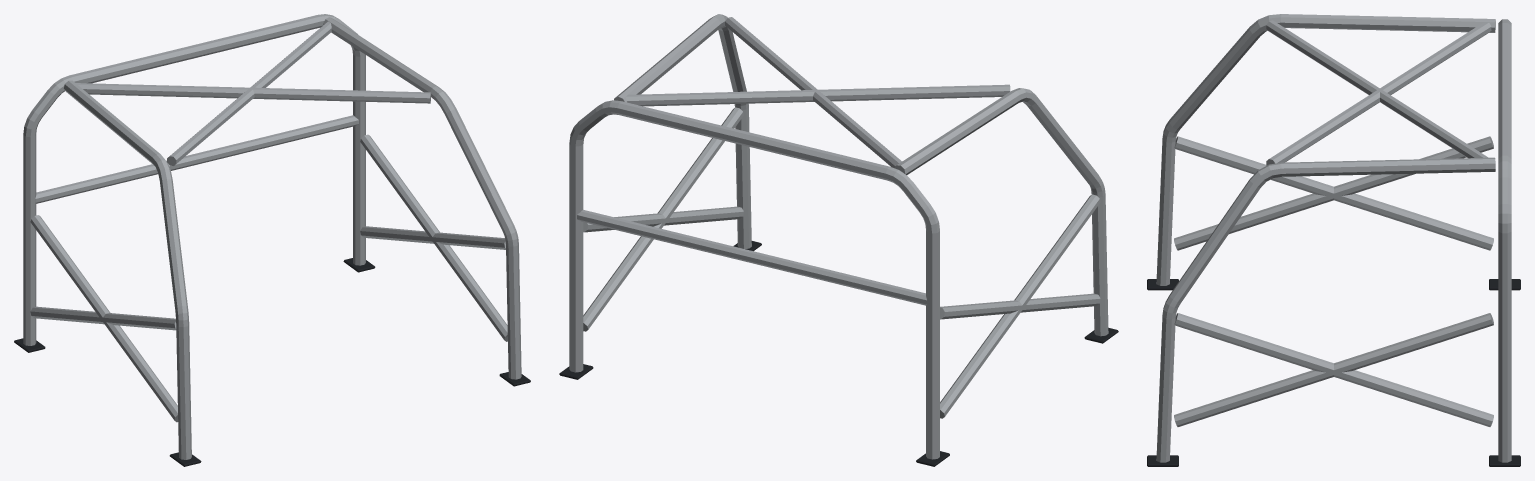
Rendered from roll_cage_welded.glb.
3 renders of one model, left to right at view 1: azimuth 30°, elevation 25°; view 2: azimuth 150°, elevation 25°; view 3: azimuth 270°, elevation 25°, orthographic. The views are drawn at different scales.
Parts seen in each view (by area): view 1: model; view 2: model; view 3: model.
Part boxes in pixels (x1,y1,x2,y2): model: (14, 14, 530, 466); model: (559, 14, 1118, 466); model: (1147, 14, 1520, 466).
Size of the model in its own units: 1.38 by 0.9835 by 1.17.
Materials: 2 (1 with a texture image).
